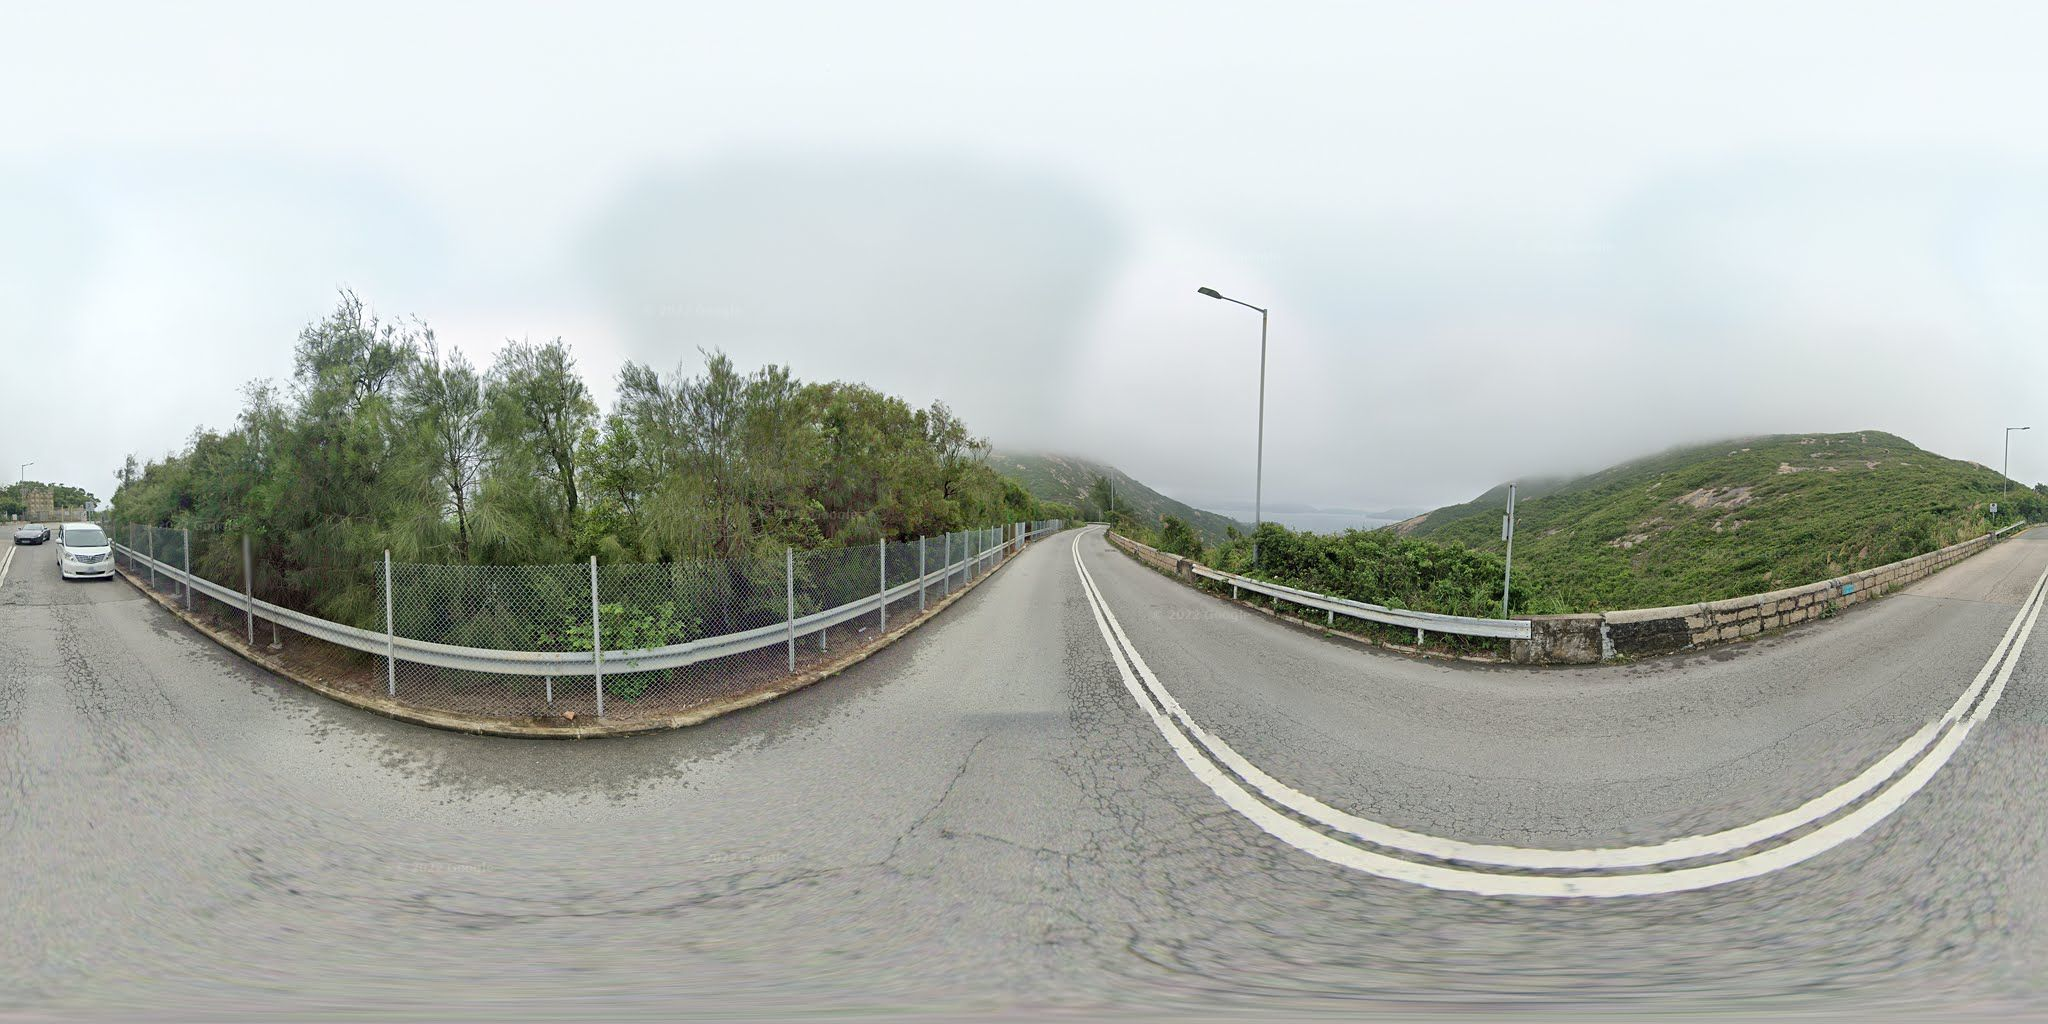SL: (1194, 281, 1272, 320)
